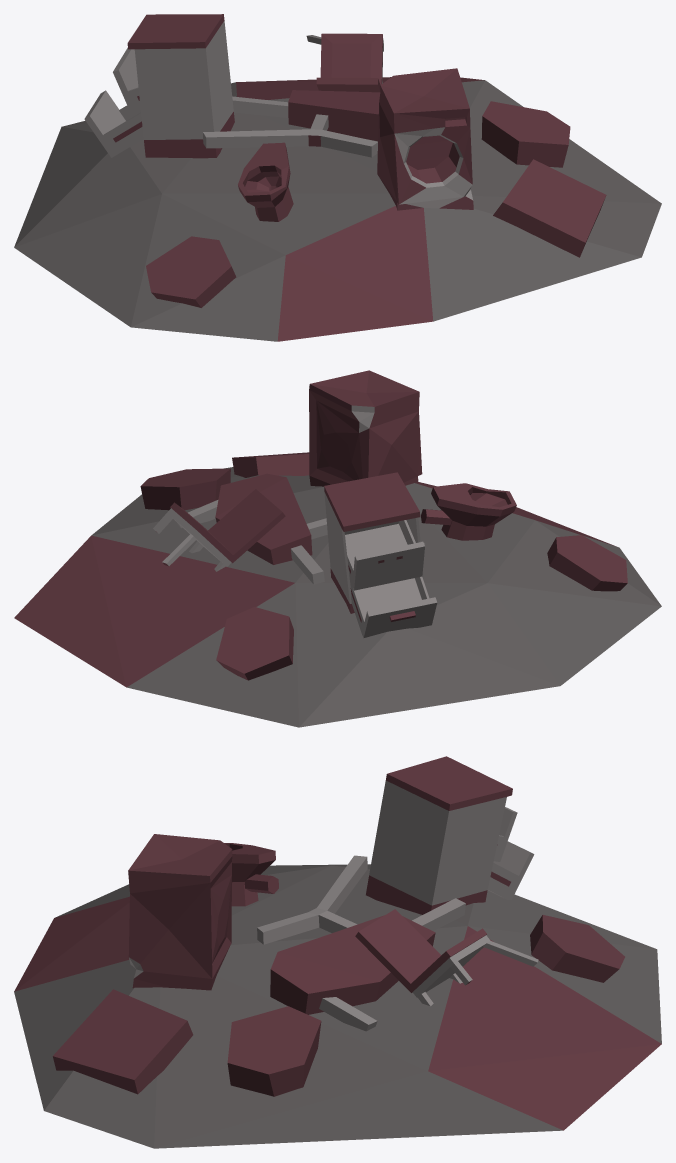
Rendered from rubble-concrete-apocalypse-f.fbx.
The picture shows the model from 3 angles, top to bottom: view 1: azimuth 30°, elevation 25°; view 2: azimuth 150°, elevation 25°; view 3: azimuth 270°, elevation 25°; orthographic projection. The views are drawn at different scales.
Visible parts, largest first — view 1: rubble-concrete-apocalypse-f; view 2: rubble-concrete-apocalypse-f; view 3: rubble-concrete-apocalypse-f.
Part boxes in pixels (bbox=[...]): rubble-concrete-apocalypse-f: bbox=[14, 14, 661, 341]; rubble-concrete-apocalypse-f: bbox=[14, 370, 661, 727]; rubble-concrete-apocalypse-f: bbox=[14, 756, 661, 1148].
Size of the model in its own units: 4.6 by 1.4 by 4.42.
